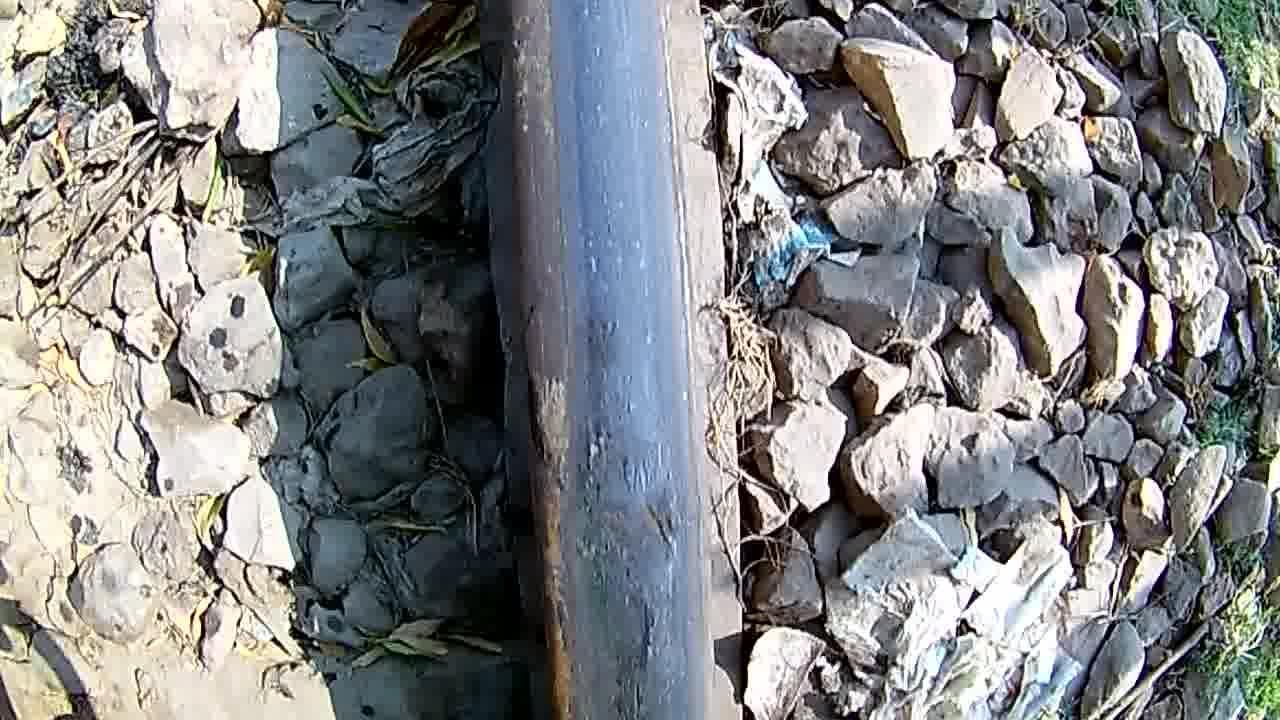crack: (533, 276, 696, 720)
